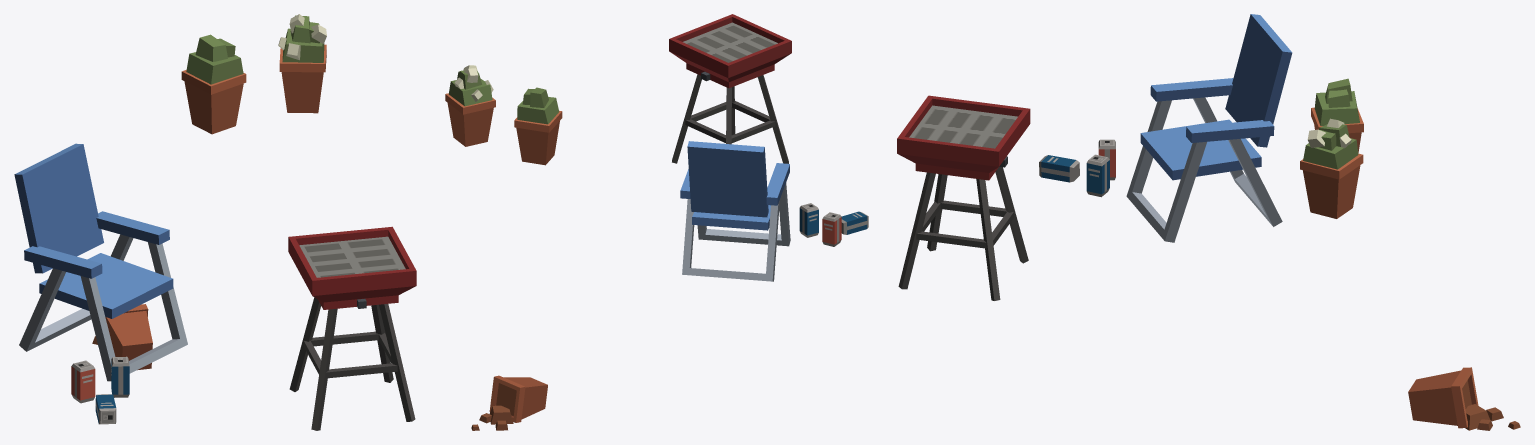
File: SA_Bld_Trailer_Extras_04.gltf
The picture shows the model from 3 angles, left to right: view 1: azimuth 30°, elevation 25°; view 2: azimuth 150°, elevation 25°; view 3: azimuth 270°, elevation 25°; orthographic projection. The views are drawn at different scales.
Visible parts, largest first — view 1: SA_Bld_Trailer_Extras_04; view 2: SA_Bld_Trailer_Extras_04; view 3: SA_Bld_Trailer_Extras_04.
Boxes of the visible parts, bbox=[...] form: SA_Bld_Trailer_Extras_04: bbox=[14, 14, 416, 430]; SA_Bld_Trailer_Extras_04: bbox=[445, 14, 868, 430]; SA_Bld_Trailer_Extras_04: bbox=[897, 14, 1520, 430].
Bounding box in the file's own units: 4.02 × 3.66 × 5.83.
Materials: 1 (1 with a texture image).
